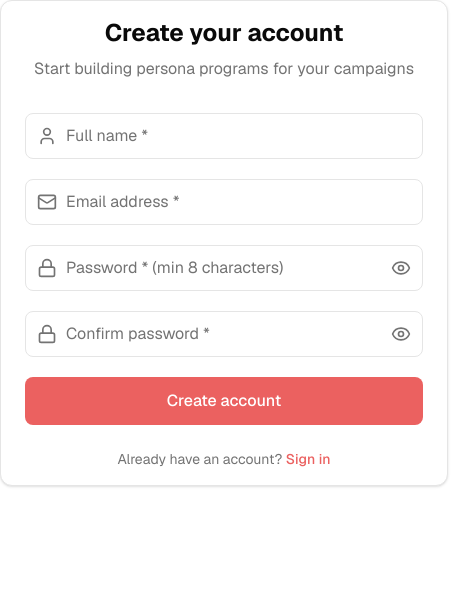
Test: RegisterForm › validates required fields
The image size is (465, 602).
Click the button "Create account" at (224, 401), box [25,377,423,425]
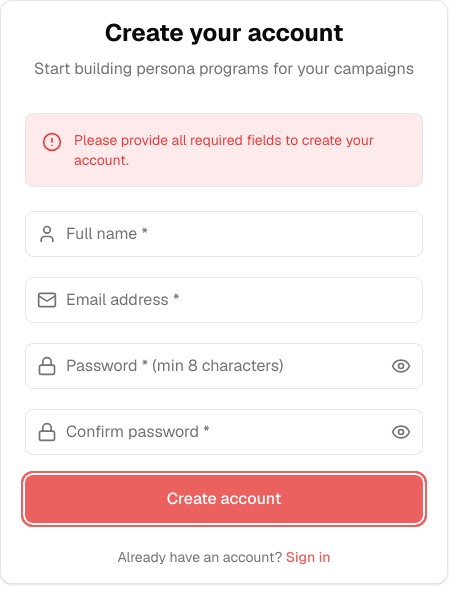
Check: the text "Please provide all required fields to create your account." is shown, box [74,130,406,170]
